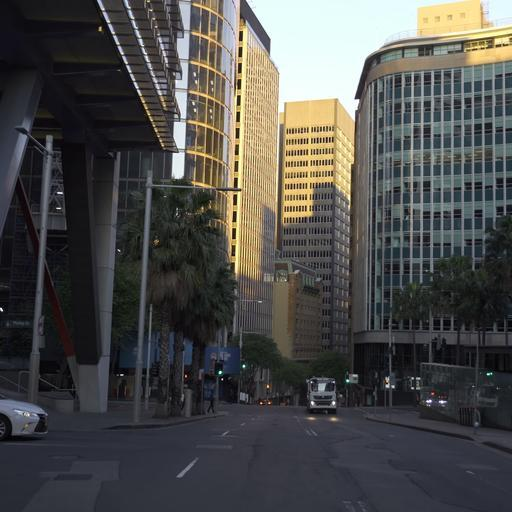Street light: (133, 170, 243, 422), (13, 124, 54, 403), (293, 267, 352, 407), (384, 267, 432, 407), (234, 297, 262, 403), (14, 125, 51, 156), (233, 298, 262, 304)
